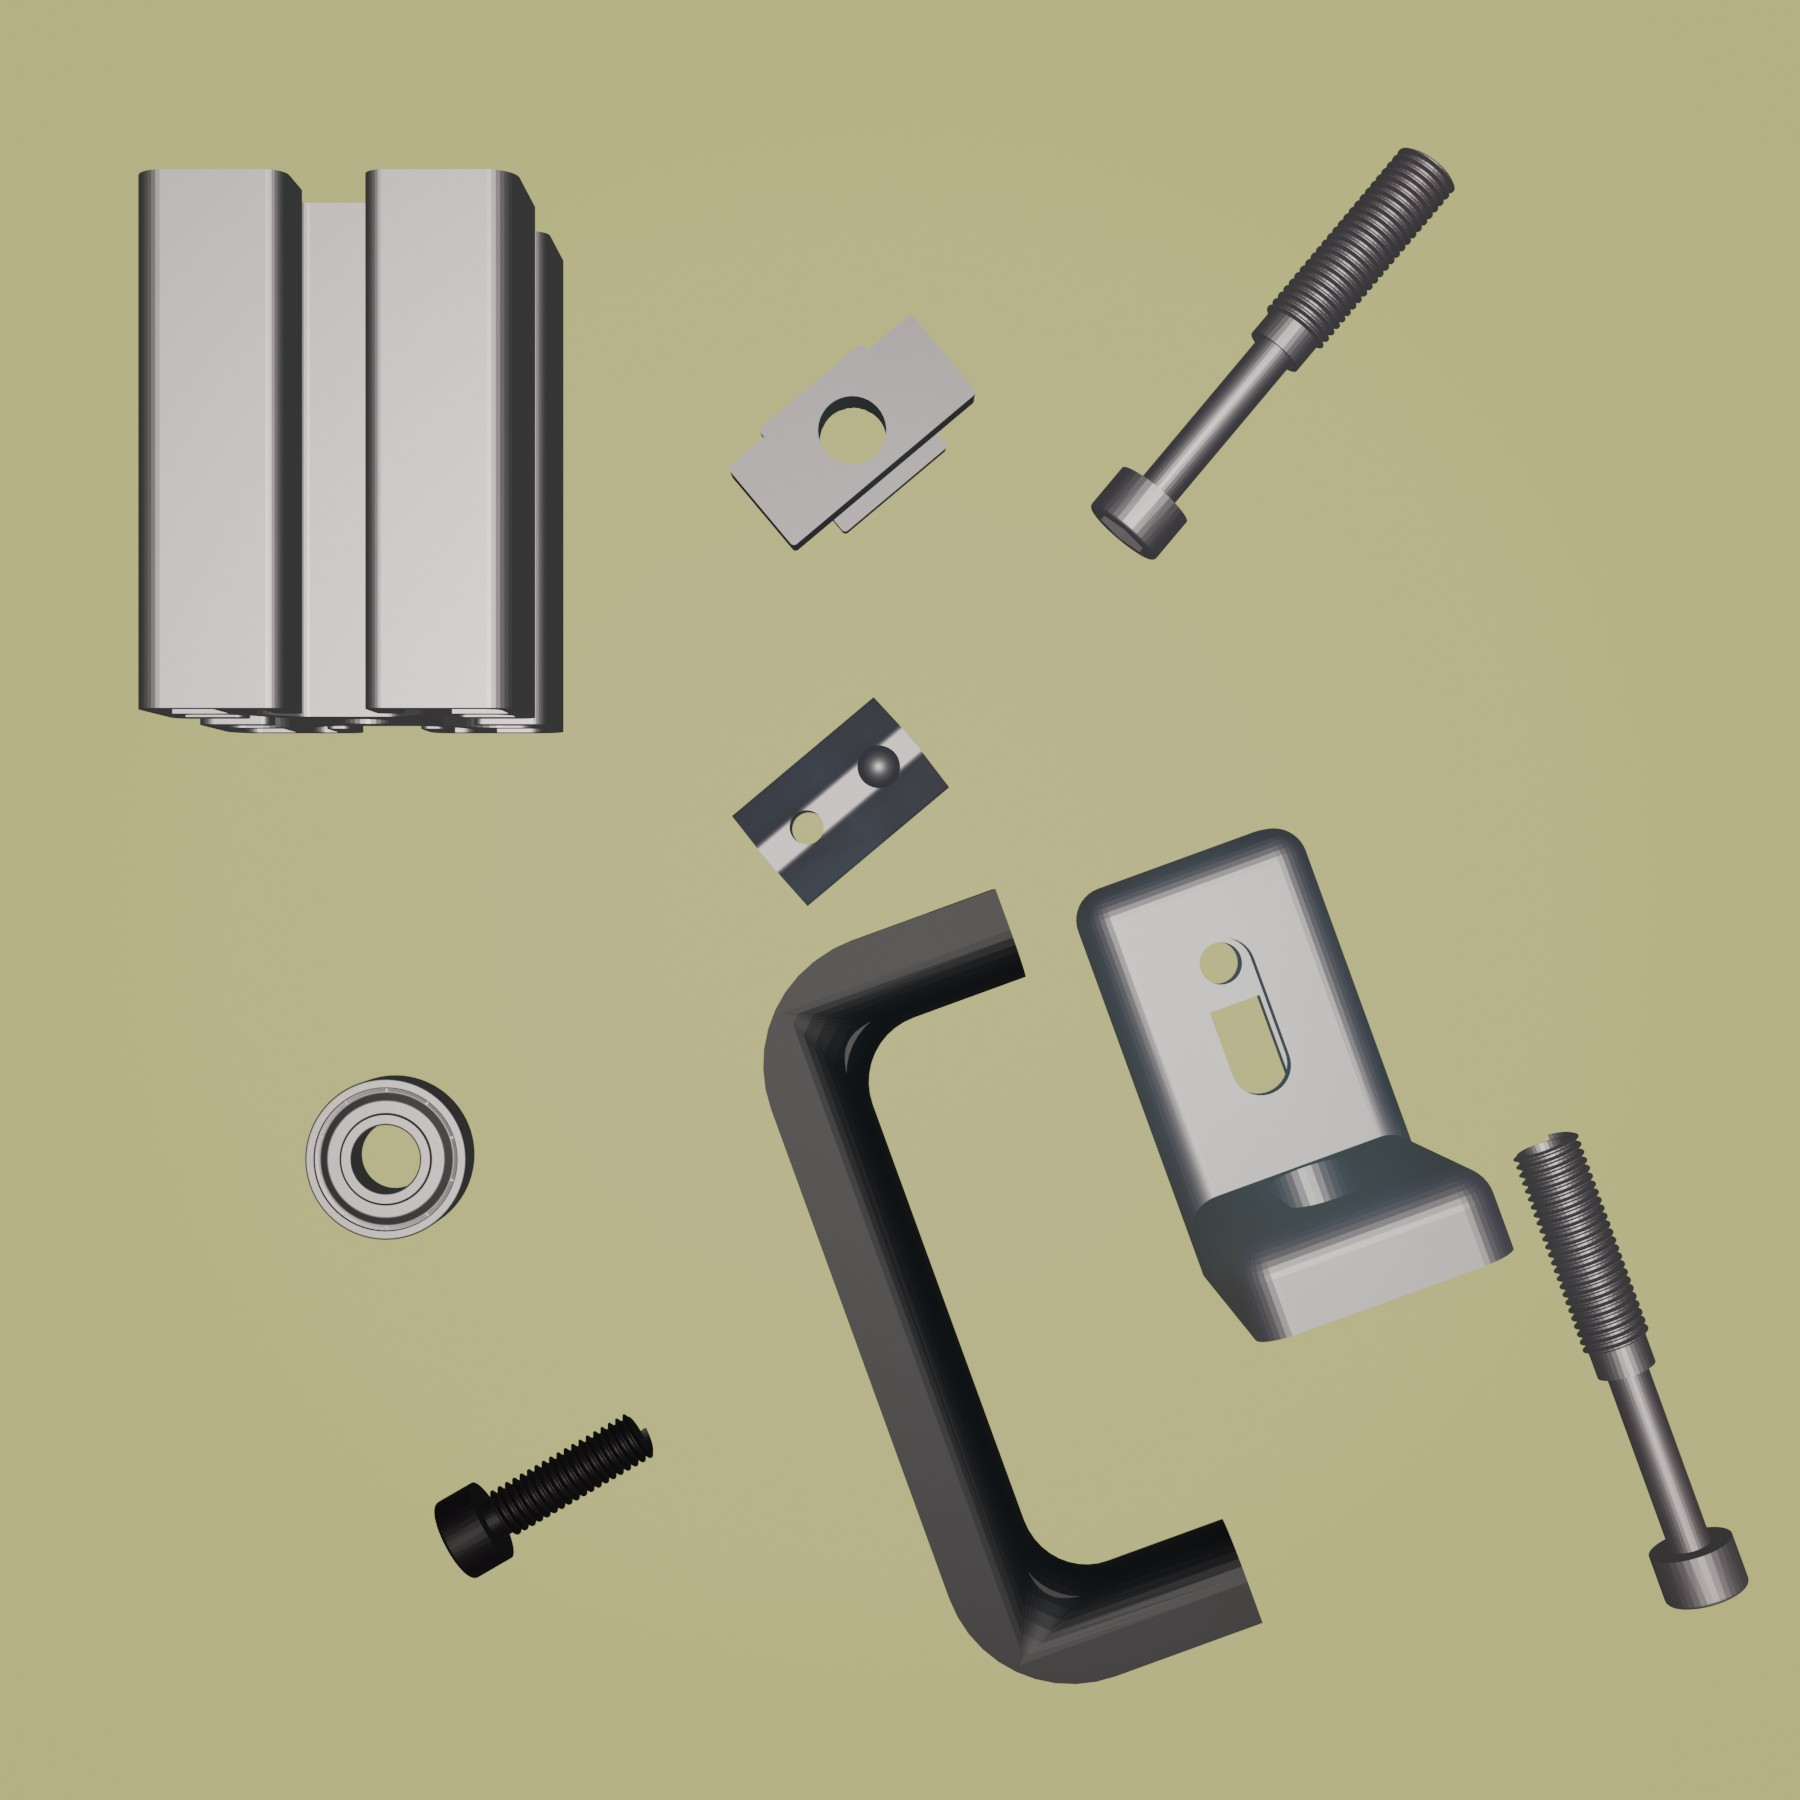Aluminium Extension: (130, 162, 567, 738)
Ball Bearing: (303, 1075, 478, 1241)
Multiwinkel: (1075, 824, 1515, 1342)
Pull Handle: (762, 888, 1264, 1685)
Shoulder Socket Head Cap Screw: (1090, 145, 1459, 562), (1512, 1127, 1751, 1612)
Socket Head Cap Screw: (430, 1409, 654, 1582)
T Nut Square: (729, 308, 977, 552)
T Spring Nut: (729, 692, 951, 907)
